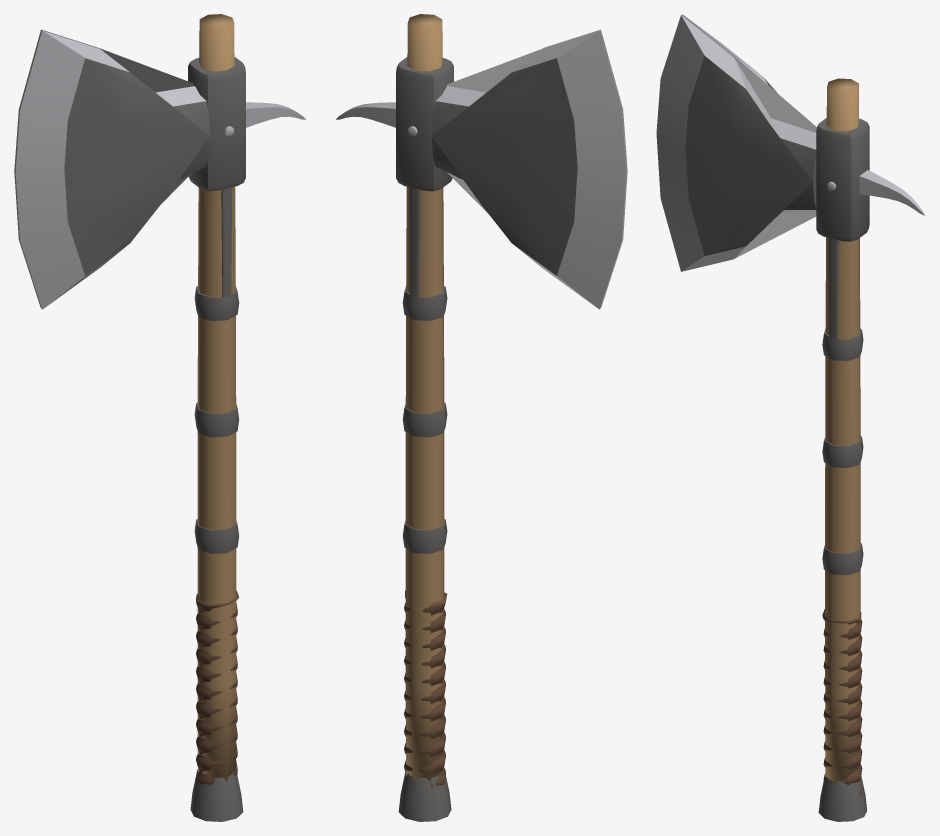
The model's file is dwarven-waraxe.glb.
3 views of the same model, side by side, from view 1: azimuth 30°, elevation 25°; view 2: azimuth 150°, elevation 25°; view 3: azimuth 330°, elevation 25° (orthographic). The views are drawn at different scales.
Parts seen in each view (by area): view 1: dwarven-waraxe; view 2: dwarven-waraxe; view 3: dwarven-waraxe.
Boxes of the visible parts, x1,y1,x2,y2 form: dwarven-waraxe: (14, 14, 305, 821); dwarven-waraxe: (336, 14, 627, 821); dwarven-waraxe: (656, 14, 925, 821).
Bounding box in the file's own units: 0.7867 × 2.13 × 0.1318.
